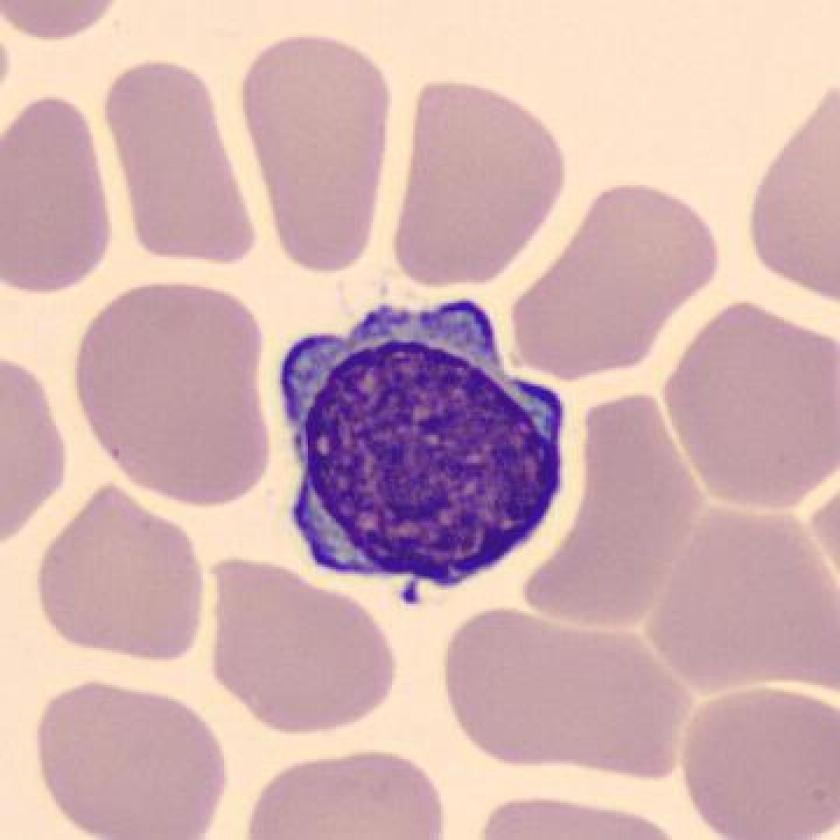lymphocyte: (265, 286, 584, 617)
